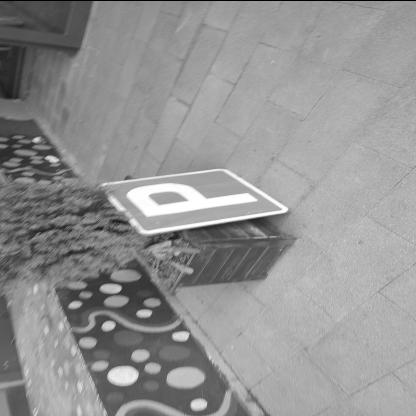Parking-Sign: (103, 168, 296, 238)
